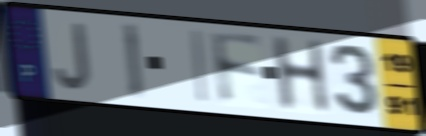3: (327, 42, 381, 119)
F: (207, 28, 266, 108)
H: (268, 34, 334, 114)
I: (120, 20, 146, 102), (191, 28, 211, 107)
J: (52, 20, 93, 93)
